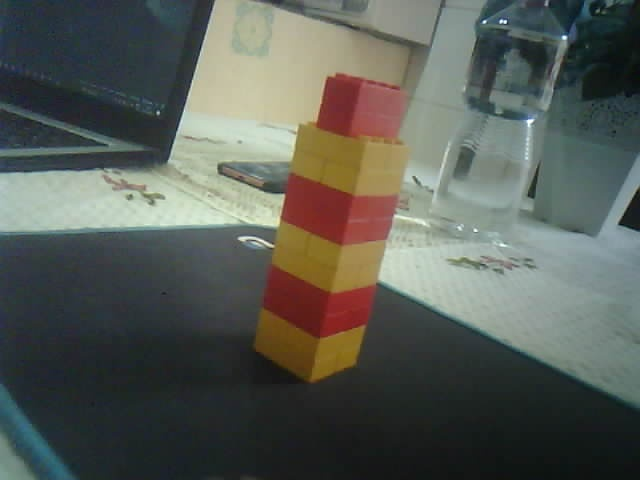lego: (251, 72, 411, 385)
